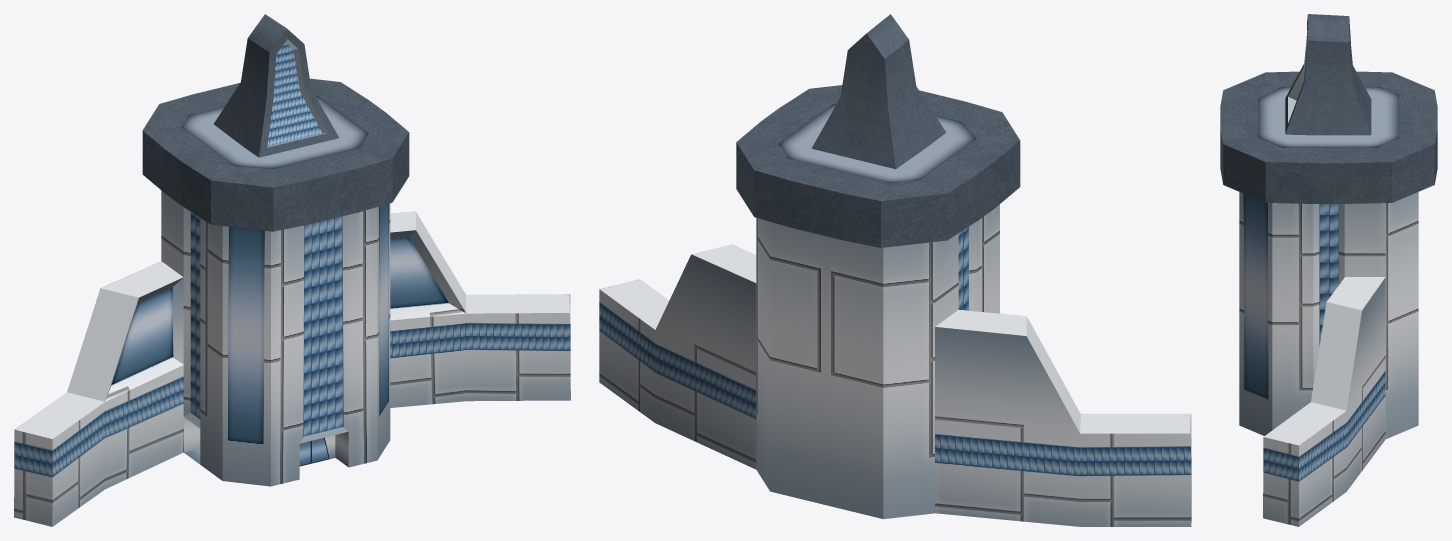
File: Business Centre.fbx
The picture shows the model from 3 angles, left to right: view 1: azimuth 30°, elevation 25°; view 2: azimuth 150°, elevation 25°; view 3: azimuth 270°, elevation 25°; orthographic projection. The views are drawn at different scales.
Visible parts, largest first — view 1: Main, Side_Wind1, Side_Wind, pCube2; view 2: Main, Side_Wind1, Side_Wind, pCube2; view 3: Main, Side_Wind, pCube2.
Part boxes in pixels (bbox=[...]): Main: bbox=[142, 78, 409, 486]; Side_Wind1: bbox=[14, 261, 183, 526]; Side_Wind: bbox=[390, 211, 570, 407]; pCube2: bbox=[213, 14, 338, 157]; Main: bbox=[736, 85, 1020, 519]; Side_Wind1: bbox=[935, 309, 1191, 526]; Side_Wind: bbox=[599, 244, 756, 469]; pCube2: bbox=[811, 14, 945, 169]; Main: bbox=[1220, 71, 1437, 438]; Side_Wind: bbox=[1263, 277, 1385, 526]; pCube2: bbox=[1285, 14, 1371, 135].
Bounding box in the file's own units: 19.94 × 14.32 × 7.28.
